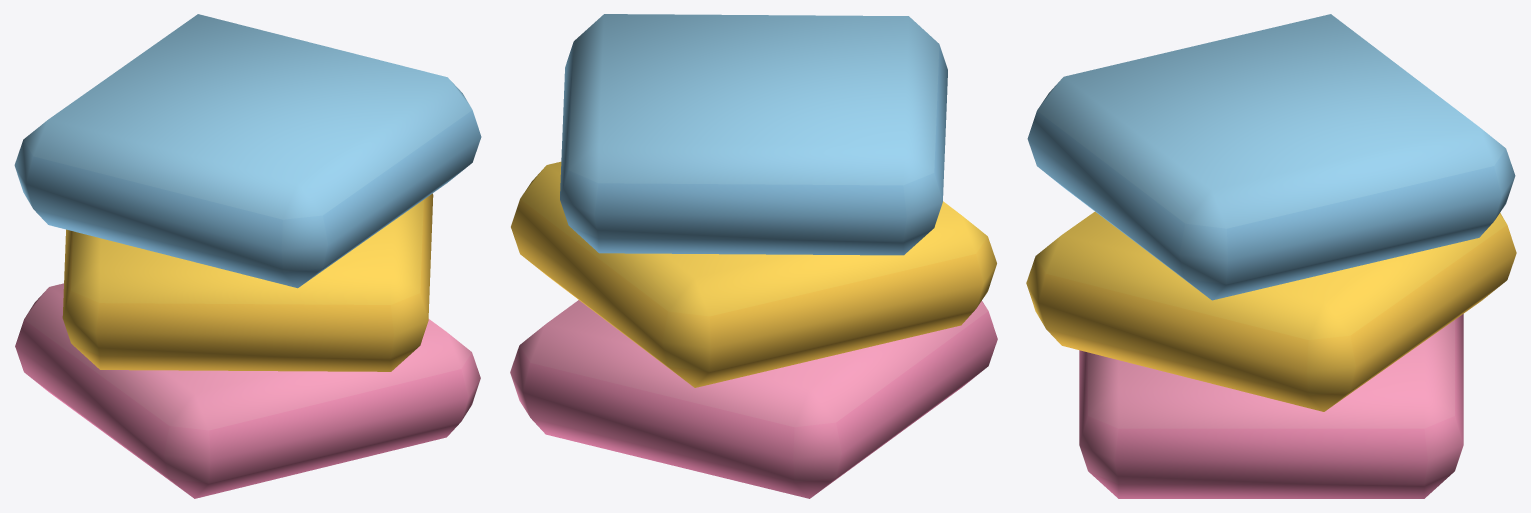
File: towel_stacked.fbx
3 views of the same model, side by side, from view 1: azimuth 30°, elevation 25°; view 2: azimuth 150°, elevation 25°; view 3: azimuth 270°, elevation 25° (orthographic). The views are drawn at different scales.
Visible parts, largest first — view 1: towel_stacked; view 2: towel_stacked; view 3: towel_stacked.
Boxes of the visible parts, x1=… form: towel_stacked: x1=14, y1=14, x2=481, y2=498; towel_stacked: x1=510, y1=14, x2=997, y2=498; towel_stacked: x1=1026, y1=14, x2=1516, y2=498.
Bounding box in the file's own units: 0.802 × 0.6 × 0.802.
